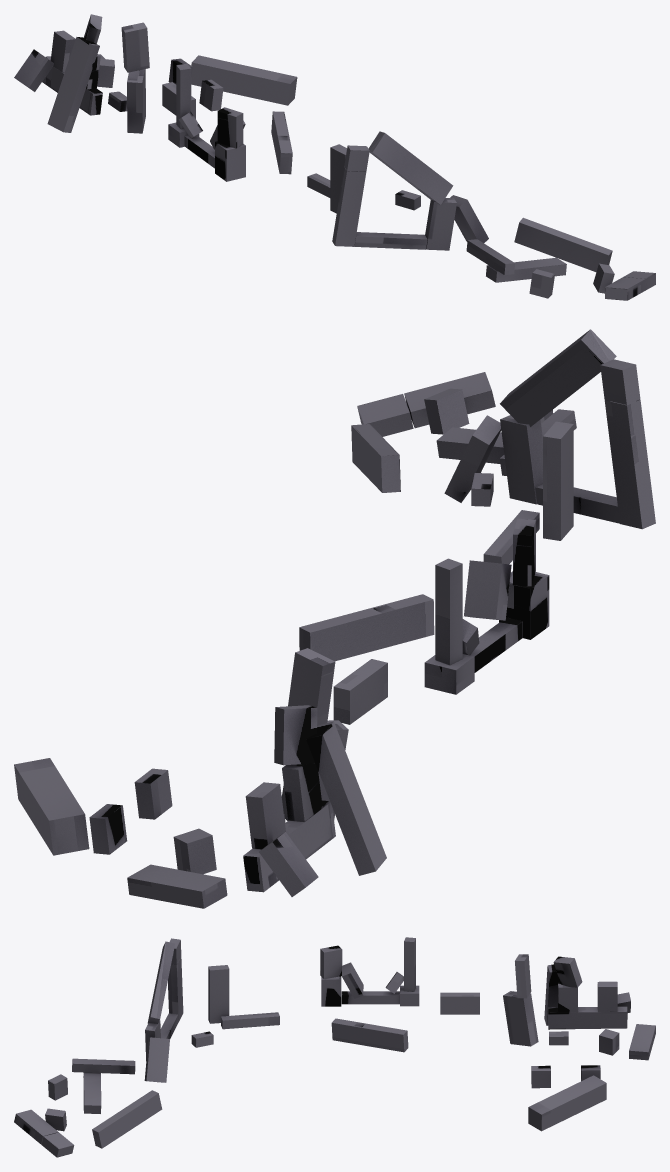
Rendered from stonehenge-state1.obj.
3 views of the same model, one above another, from view 1: azimuth 30°, elevation 25°; view 2: azimuth 150°, elevation 25°; view 3: azimuth 270°, elevation 25° (orthographic). The views are drawn at different scales.
Visible parts, largest first — view 1: Stonehenge_East2; view 2: Stonehenge_East2; view 3: Stonehenge_East2.
Boxes of the visible parts, box(x1,y1,x2,y2) form: Stonehenge_East2: box(14, 14, 655, 300); Stonehenge_East2: box(14, 329, 655, 908); Stonehenge_East2: box(14, 937, 655, 1157).
Bounding box in the file's own units: 30.66 × 15.15 × 65.02.
